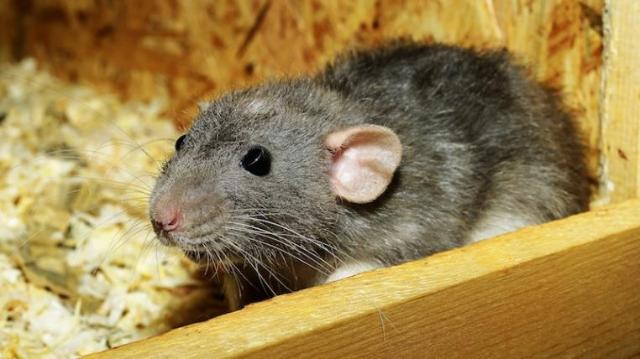rat: (136, 28, 498, 286)
